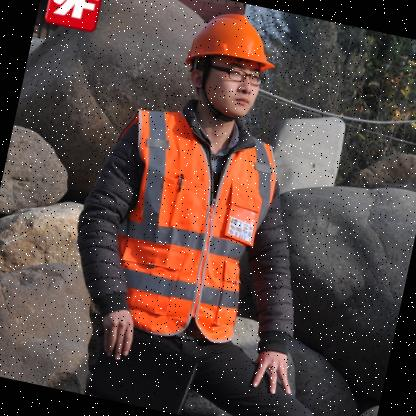capacete: (176, 3, 284, 122)
colete_refletivo: (57, 90, 300, 343)
